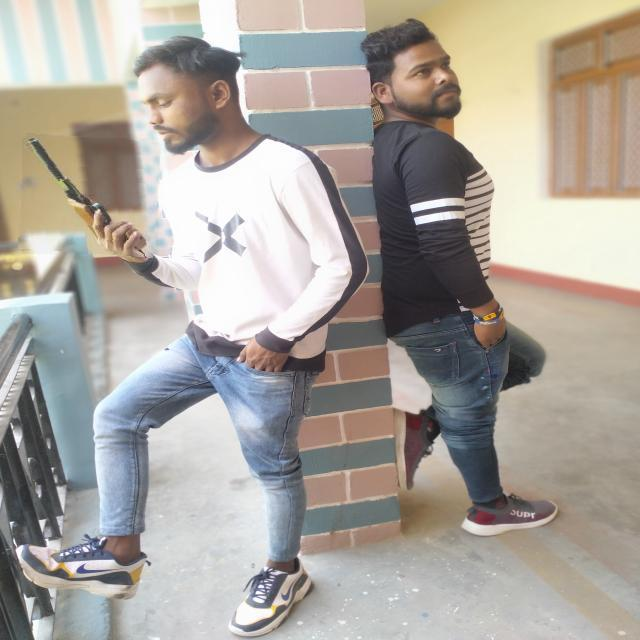handgun: (20, 136, 160, 256)
